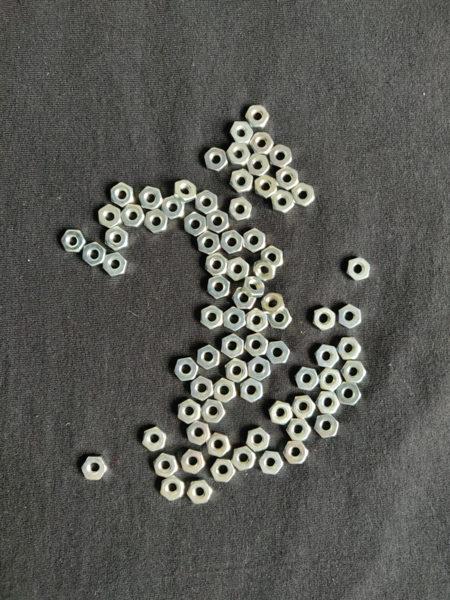nut: (81, 455, 108, 481), (153, 453, 179, 479), (180, 449, 206, 475), (160, 475, 185, 501), (206, 433, 231, 458), (201, 399, 226, 424), (174, 358, 199, 383), (144, 209, 169, 234), (187, 481, 213, 505), (143, 426, 167, 452), (231, 447, 257, 471), (258, 451, 284, 475), (284, 441, 310, 465), (190, 376, 214, 402), (204, 147, 228, 173), (210, 459, 235, 483), (187, 421, 211, 446), (246, 428, 270, 453), (314, 415, 339, 439), (337, 382, 362, 406), (295, 367, 320, 391), (178, 400, 202, 425), (197, 345, 221, 370), (207, 275, 231, 300), (227, 257, 251, 282), (82, 243, 107, 267), (103, 253, 128, 277), (221, 230, 245, 255), (206, 209, 230, 234), (341, 361, 367, 384), (243, 228, 266, 254), (319, 368, 343, 392), (245, 333, 269, 357), (197, 231, 221, 255), (105, 227, 129, 251), (121, 204, 145, 228), (228, 197, 252, 221), (292, 183, 316, 207), (268, 402, 293, 425), (291, 396, 316, 419), (315, 392, 340, 415), (315, 345, 340, 368), (337, 338, 362, 361), (339, 304, 362, 329), (214, 378, 237, 403), (241, 378, 264, 403), (225, 358, 248, 383), (222, 334, 245, 359), (245, 308, 268, 333), (111, 183, 134, 208), (162, 195, 185, 220), (184, 212, 207, 237), (230, 169, 253, 194), (286, 419, 312, 441), (61, 230, 87, 252), (313, 307, 336, 331), (347, 258, 371, 281), (248, 357, 271, 381), (201, 306, 224, 330), (223, 307, 246, 331), (205, 253, 228, 277), (139, 187, 163, 210), (173, 180, 197, 203), (271, 190, 295, 213), (255, 175, 278, 199), (277, 167, 300, 191), (270, 144, 293, 168), (247, 153, 270, 177), (227, 143, 251, 166), (250, 132, 274, 155), (230, 121, 254, 144), (268, 308, 293, 330), (196, 190, 218, 215), (267, 341, 290, 364), (254, 258, 277, 281), (261, 245, 284, 268), (99, 205, 121, 229), (246, 105, 270, 127), (232, 288, 257, 309), (262, 293, 285, 315), (242, 277, 264, 298)
